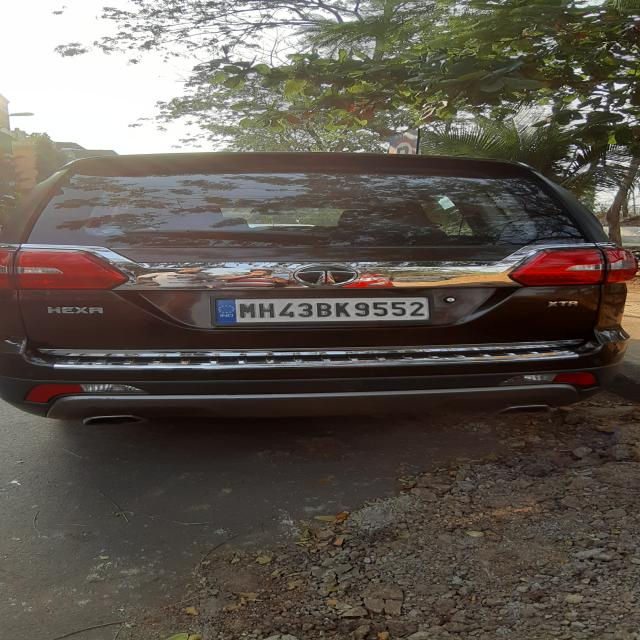Number-Plate: (215, 298, 431, 321)
